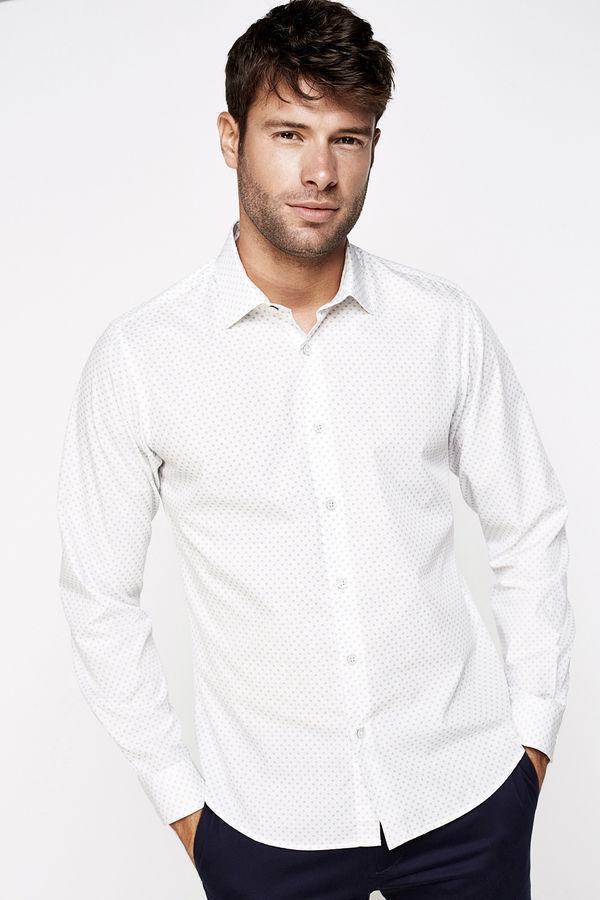teeshirt: (67, 258, 572, 821)
